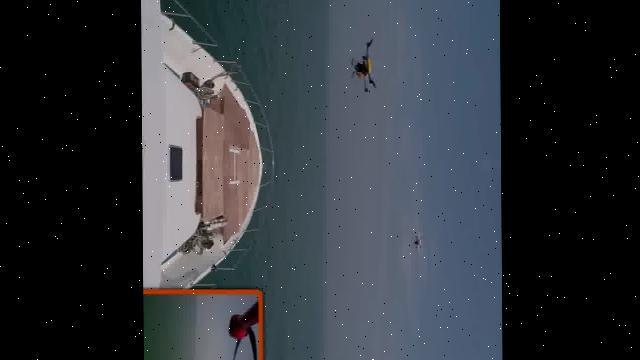drone: (349, 36, 378, 96), (412, 231, 423, 253)
